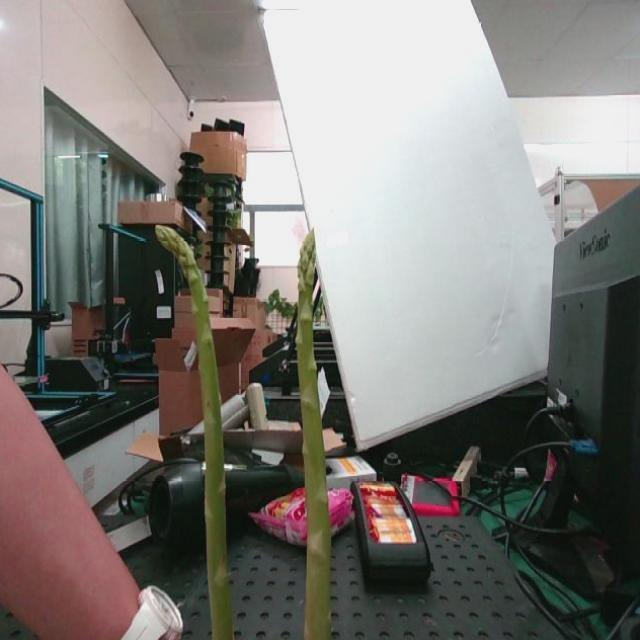aspargus: (150, 225, 232, 640), (297, 226, 331, 640)
